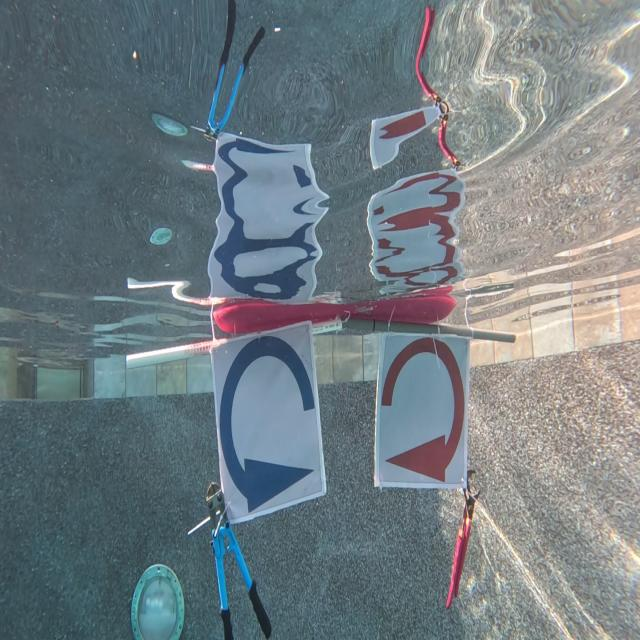blue_side: (212, 334, 324, 522)
red_side: (376, 336, 469, 486)
